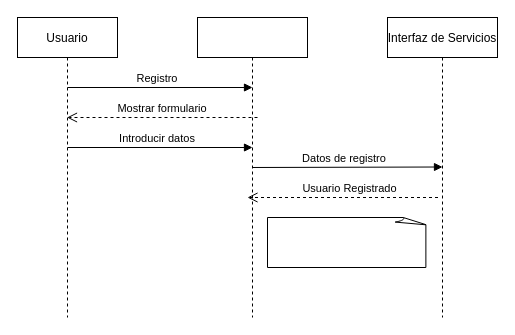
This 515x335 diagram has some shape labels left out. Here are the shapes that lost their labels. From the top down, the box of each, then its label:
(196, 16, 308, 318): Interfaz de Usuario
(266, 216, 428, 268): El usuario tiene que introducir todos los datos necesarios
